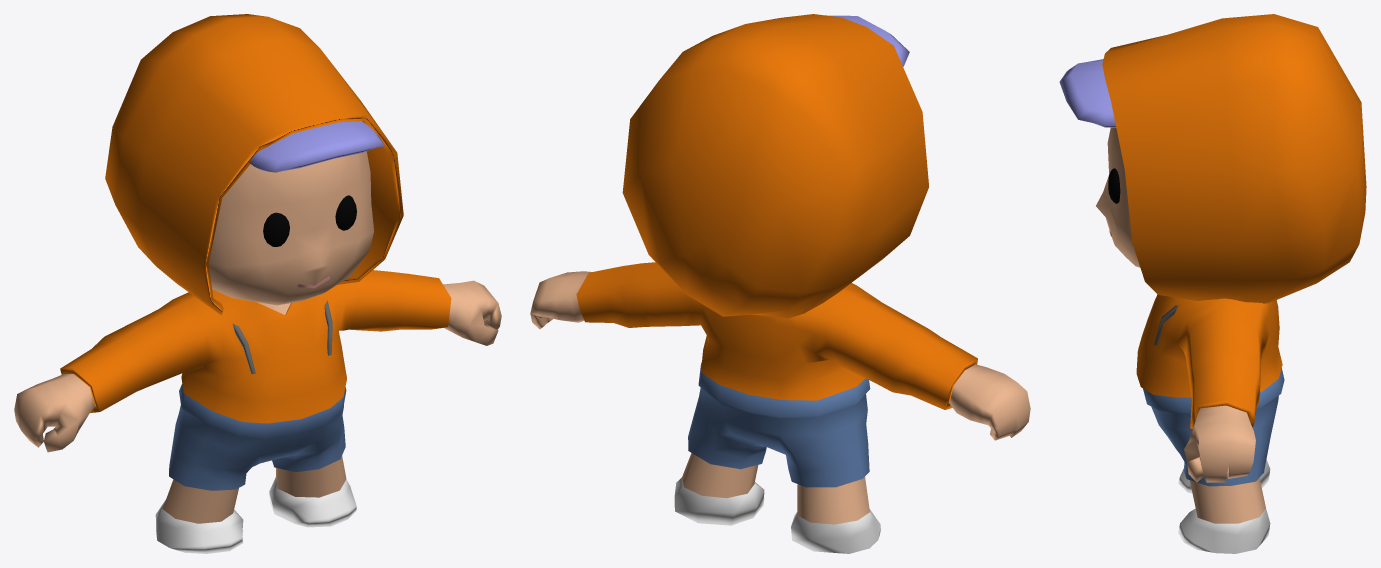
The model's file is customer_man1.fbx.
3 renders of one model, left to right at view 1: azimuth 30°, elevation 25°; view 2: azimuth 150°, elevation 25°; view 3: azimuth 270°, elevation 25°, orthographic. The views are drawn at different scales.
Visible parts, largest first — view 1: customer_man1; view 2: customer_man1; view 3: customer_man1.
Boxes of the visible parts, x1=… form: customer_man1: x1=14, y1=14, x2=501, y2=553; customer_man1: x1=530, y1=14, x2=1030, y2=553; customer_man1: x1=1059, y1=14, x2=1366, y2=553.
Size of the model in its own units: 594 by 587 by 338.
